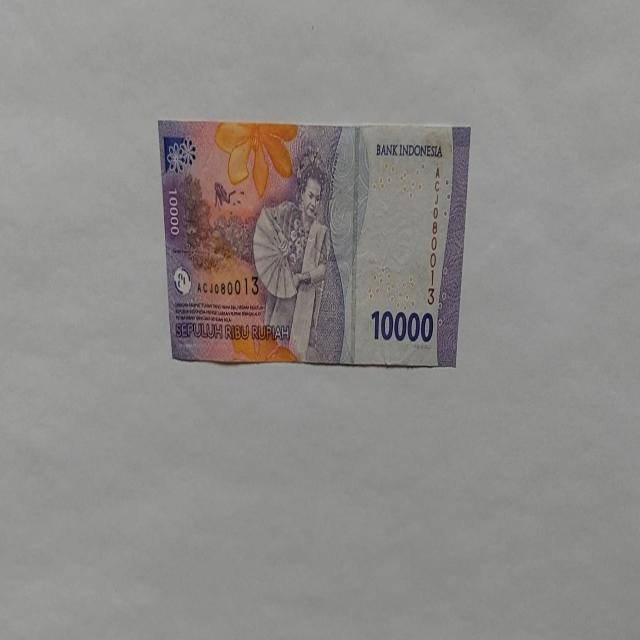sepuluh ribu rupiah: (157, 118, 471, 368)
